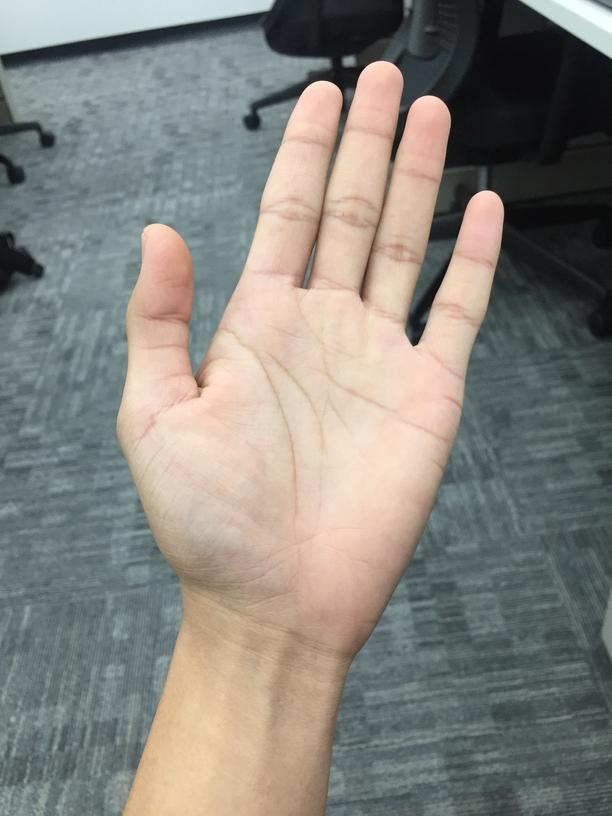hand: (118, 61, 508, 652)
